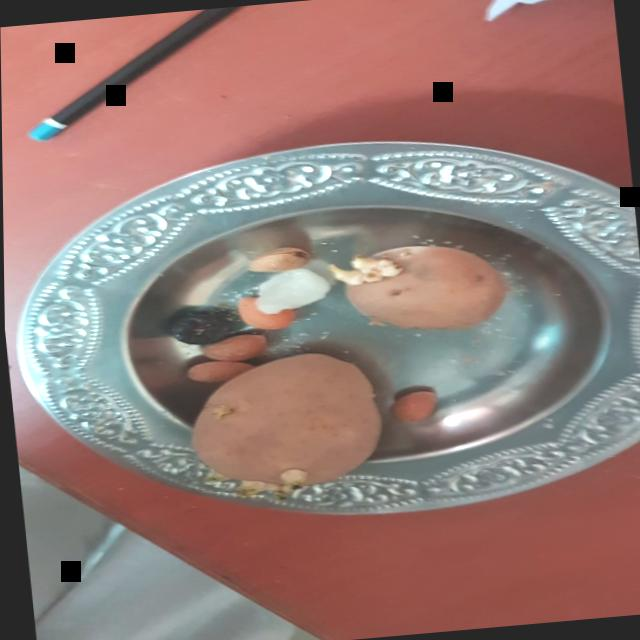potato: (177, 342, 392, 502), (332, 237, 513, 345)
